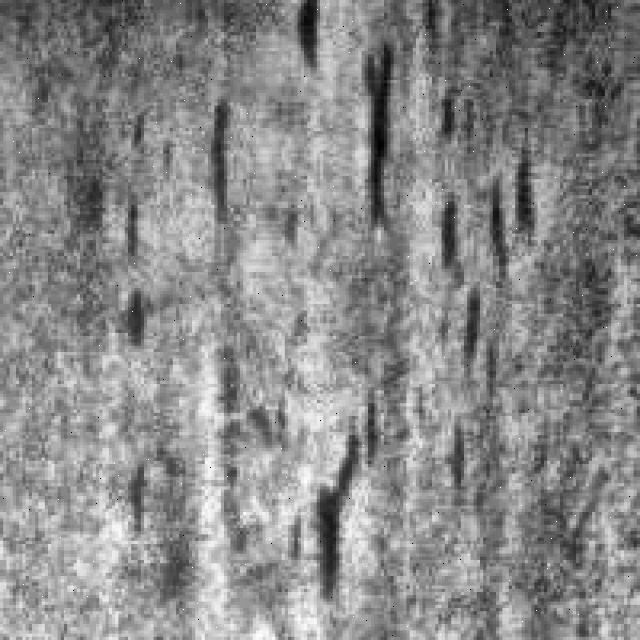Patches: (429, 147, 557, 410), (262, 404, 384, 598), (340, 29, 412, 240), (192, 83, 250, 237), (278, 0, 326, 80), (115, 451, 154, 541), (106, 176, 144, 266), (112, 278, 147, 349)
